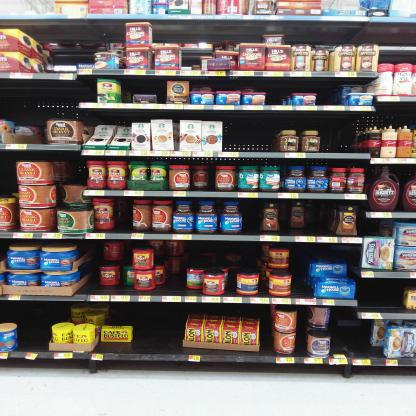Void: (4, 82, 78, 116), (226, 113, 281, 149), (134, 304, 182, 345), (187, 242, 257, 268), (322, 112, 366, 150), (54, 24, 91, 64), (19, 302, 48, 349), (362, 282, 403, 308), (183, 21, 211, 56), (338, 319, 369, 349), (304, 245, 350, 260), (308, 203, 329, 234), (316, 80, 343, 104), (124, 80, 165, 92), (269, 78, 287, 104), (115, 202, 131, 231), (244, 202, 260, 230)
